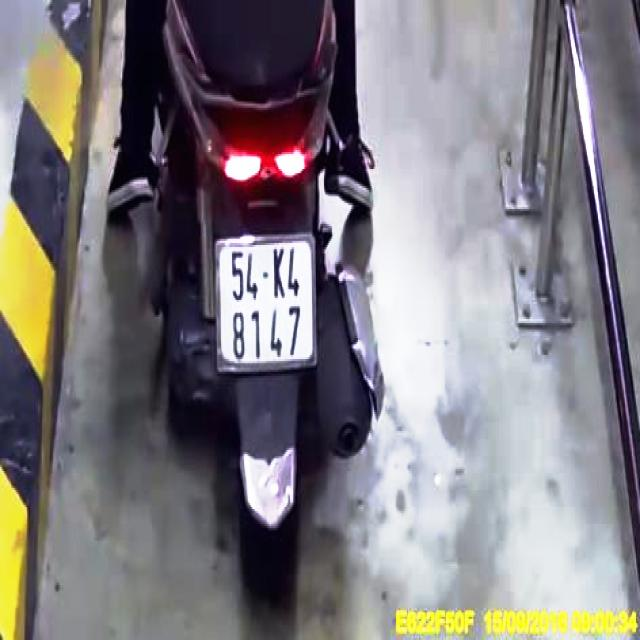license_plate: (219, 240, 316, 366)
